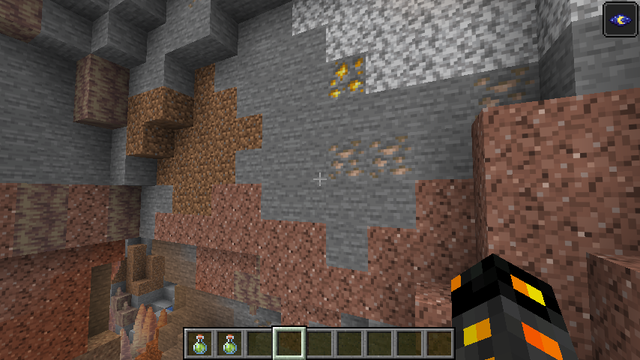gold: (324, 57, 368, 99)
iron: (326, 135, 414, 179), (474, 62, 542, 109)
